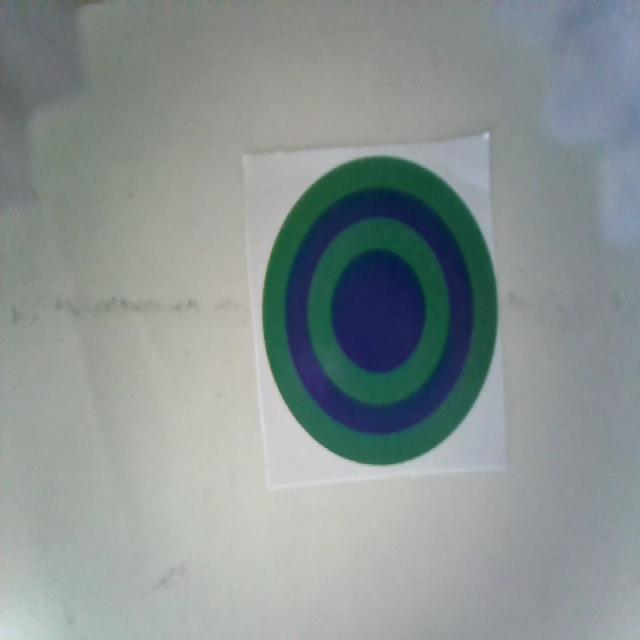cogn: (261, 154, 496, 465)
